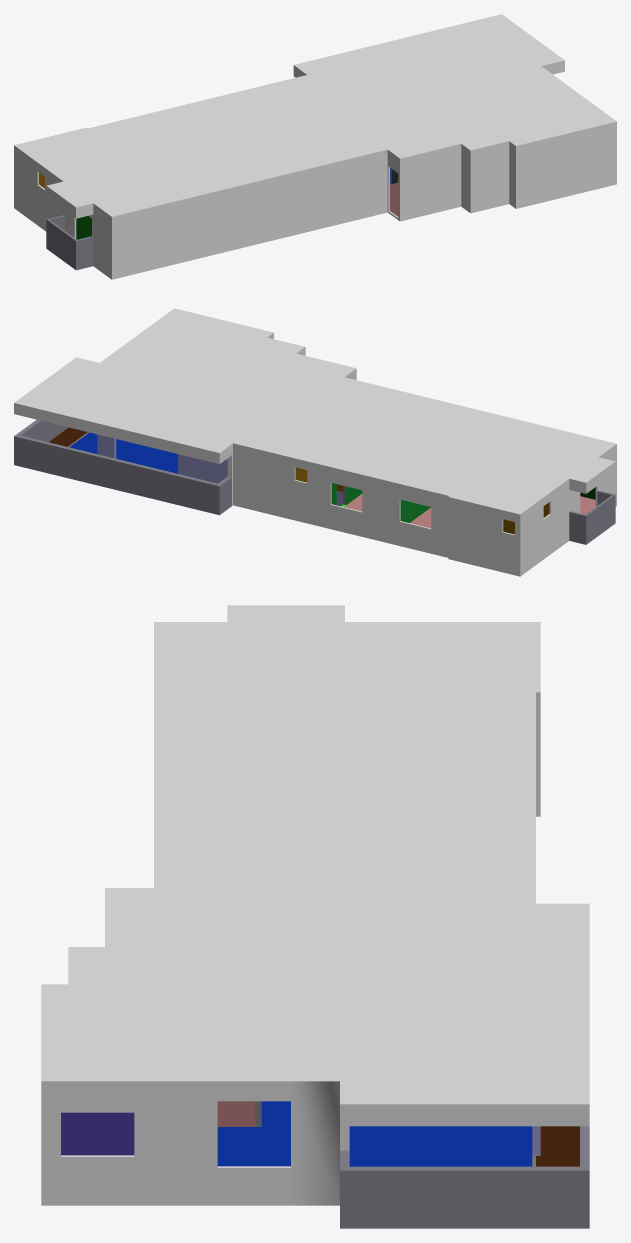
The model's file is Apartamento_A4_1.FBX.
3 views of the same model, one above another, from view 1: azimuth 30°, elevation 25°; view 2: azimuth 150°, elevation 25°; view 3: azimuth 270°, elevation 25° (orthographic). The views are drawn at different scales.
Visible parts, largest first — view 1: Apartamento_A4_1; view 2: Apartamento_A4_1; view 3: Apartamento_A4_1.
Boxes of the visible parts, x1,y1,x2,y2 form: Apartamento_A4_1: (14,14,616,279); Apartamento_A4_1: (14,308,616,576); Apartamento_A4_1: (41,605,589,1228).
Bounding box in the file's own units: 2410 × 1120 × 280.
